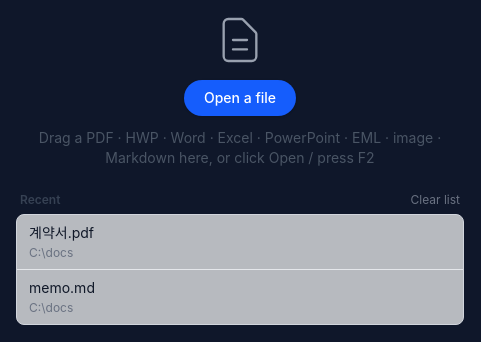
Test: StartScreen › drops a document that can no longer be opened
Click the text "계약서.pdf": (62, 232) [29,224,94,241]
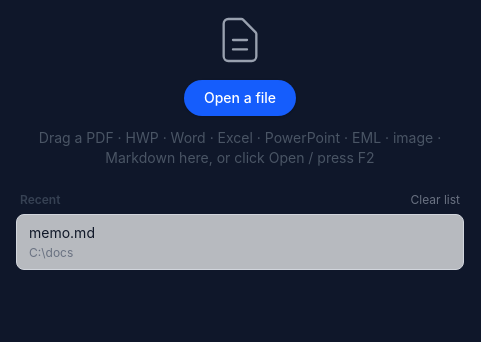
expect the button "계약서.pdf" is gone: met
